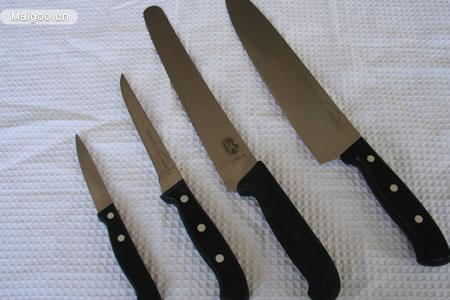knife: (54, 2, 437, 289)
